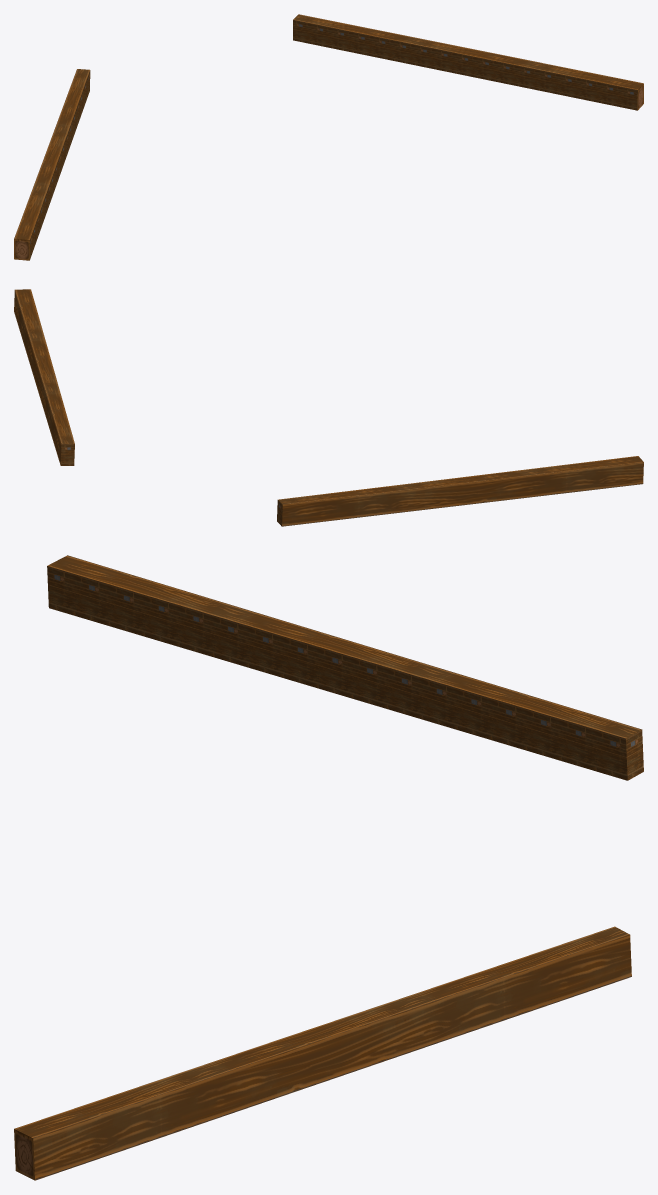
The picture shows the model from 3 angles, top to bottom: view 1: azimuth 30°, elevation 25°; view 2: azimuth 150°, elevation 25°; view 3: azimuth 270°, elevation 25°; orthographic projection. The views are drawn at different scales.
Visible parts, largest first — view 1: Cube.2012; view 2: Cube.2012; view 3: Cube.2012.
Part boxes in pixels (x1,y1,x2,y2): Cube.2012: [14, 14, 643, 260]; Cube.2012: [14, 289, 643, 526]; Cube.2012: [14, 555, 643, 1180].
Bounding box in the file's own units: 1788 × 106 × 788.
1 material, 1 textured.
